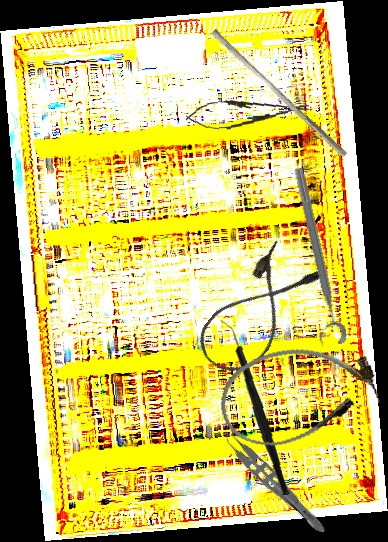Cannula: (212, 332, 385, 457), (188, 237, 327, 386)
Chopper: (211, 320, 297, 495)
Fixation Ring: (279, 166, 349, 349)
Needle Holder: (184, 92, 311, 134)
Pusher: (206, 28, 353, 158)
Tissue Forceps: (215, 423, 336, 537)
